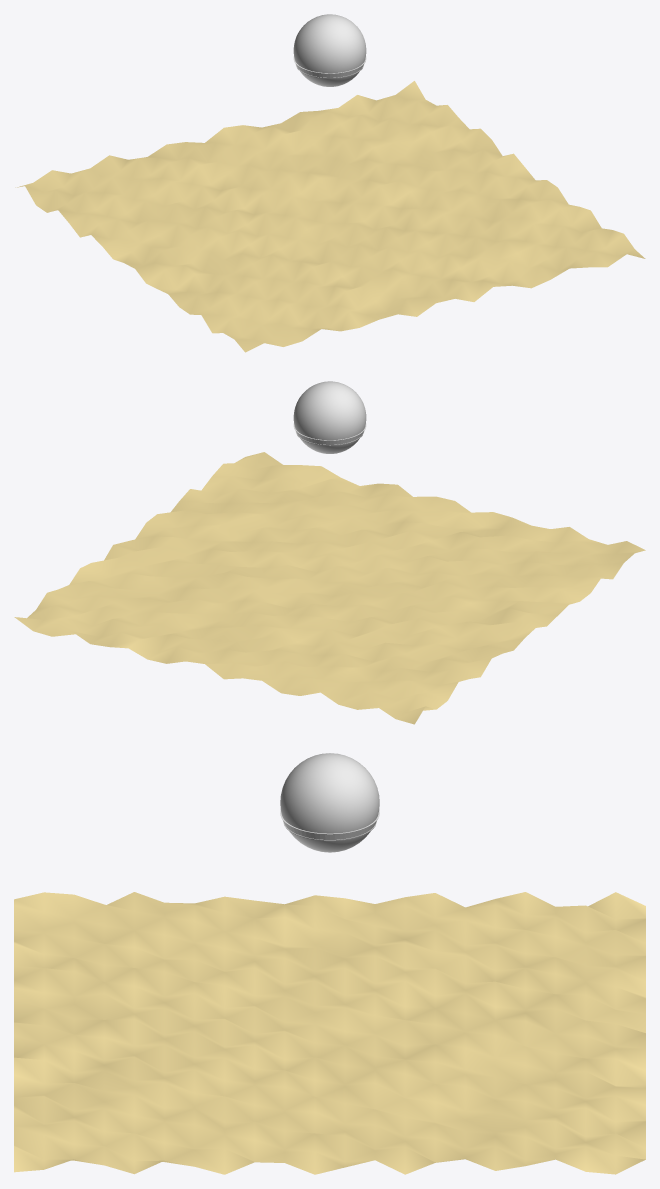
The model's file is KingKaiPlanet.fbx.
3 views of the same model, one above another, from view 1: azimuth 30°, elevation 25°; view 2: azimuth 150°, elevation 25°; view 3: azimuth 270°, elevation 25° (orthographic). The views are drawn at different scales.
Visible parts, largest first — view 1: Plane, Planet; view 2: Plane, Planet; view 3: Plane, Planet, Cylinder.
Part boxes in pixels (box(x1,y1,x2,y2)): Plane: box(15, 81, 645, 352); Planet: box(293, 14, 366, 86); Plane: box(14, 452, 645, 724); Planet: box(293, 381, 366, 453); Plane: box(14, 892, 645, 1174); Planet: box(280, 753, 379, 852); Cylinder: box(280, 810, 379, 841).
Bounding box in the file's own units: 40006 × 19812 × 40006.
